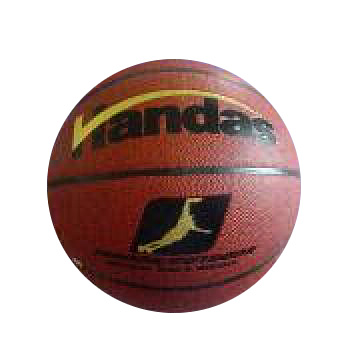basketball: (45, 59, 302, 314)
